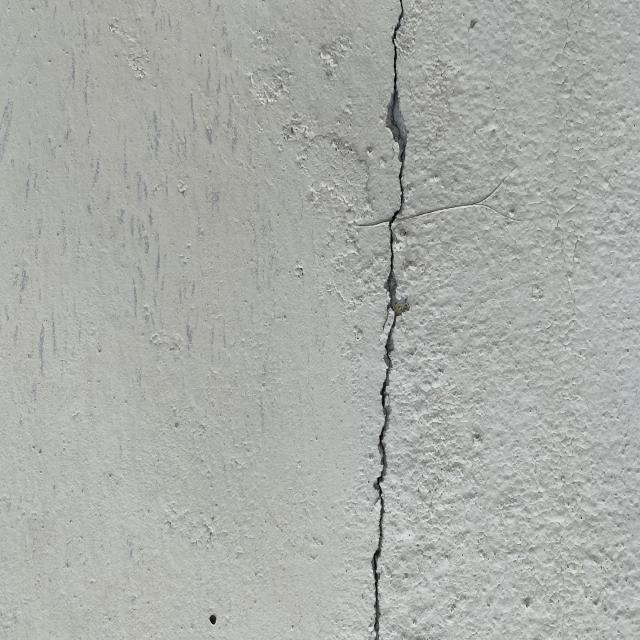SurfaceCrack: (314, 1, 451, 640)
